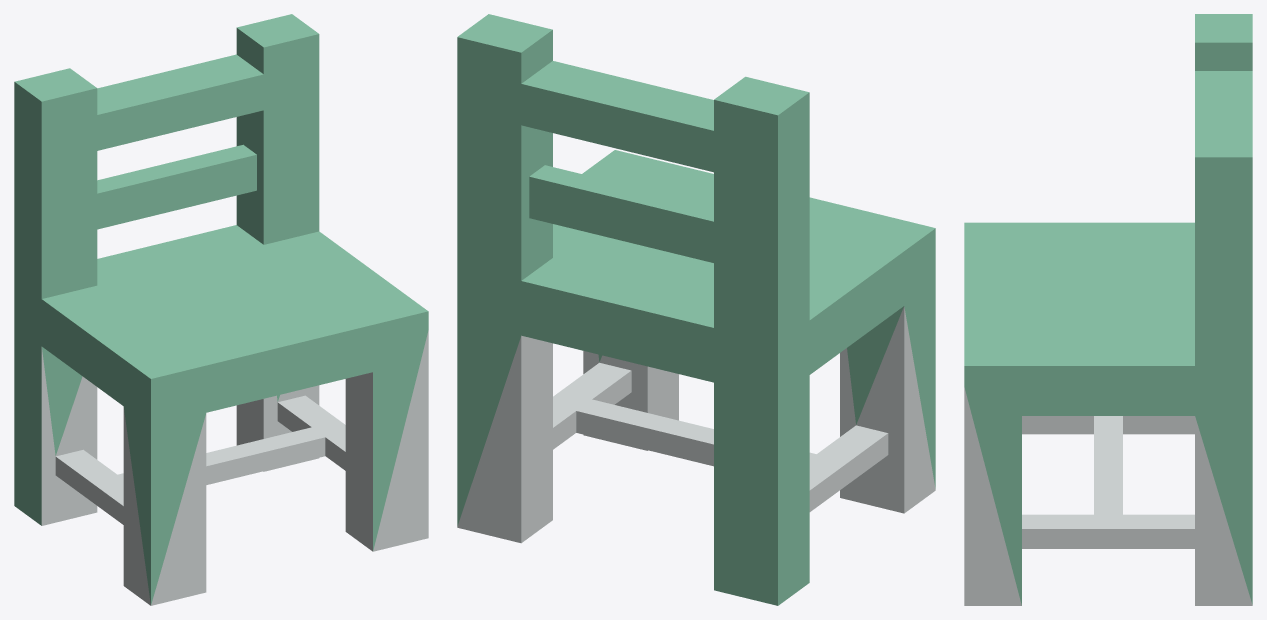
Rendered from meeting-chair-mint.glb.
3 renders of one model, left to right at view 1: azimuth 30°, elevation 25°; view 2: azimuth 150°, elevation 25°; view 3: azimuth 270°, elevation 25°, orthographic. The views are drawn at different scales.
Visible parts, largest first — view 1: vendor-mint, vendor-aluminium; view 2: vendor-mint, vendor-aluminium; view 3: vendor-mint, vendor-aluminium.
Part boxes in pixels (x1,y1,x2,y2): vendor-mint: (14,14,428,604); vendor-aluminium: (41,330,428,605); vendor-mint: (457,14,935,605); vendor-aluminium: (457,306,935,543); vendor-mint: (964,14,1252,605); vendor-aluminium: (964,387,1252,605).
Size of the model in its own units: 1.09 by 1.59 by 0.9265.
Materials: 1 (1 with a texture image).
